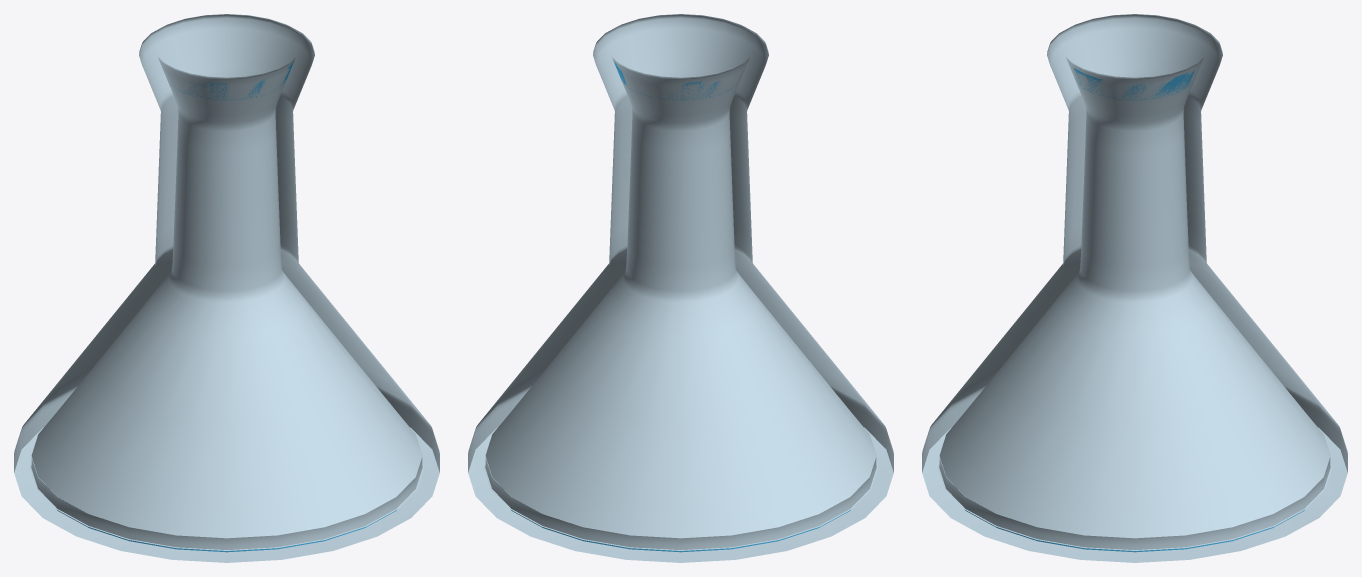
The model's file is chemistry24.glb.
The picture shows the model from 3 angles, left to right: view 1: azimuth 30°, elevation 25°; view 2: azimuth 150°, elevation 25°; view 3: azimuth 270°, elevation 25°; orthographic projection.
Bounding box in the file's own units: 0.5122 × 0.5709 × 0.5122.
